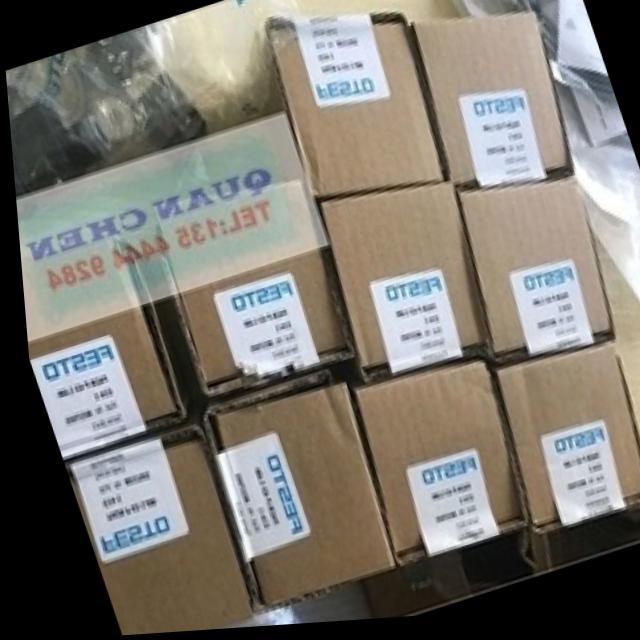box: (195, 369, 386, 613), (57, 428, 244, 636), (348, 370, 518, 569), (315, 189, 480, 382), (263, 18, 440, 197), (489, 356, 640, 539), (455, 185, 607, 365), (166, 255, 344, 401), (409, 21, 566, 186), (22, 306, 180, 457)
